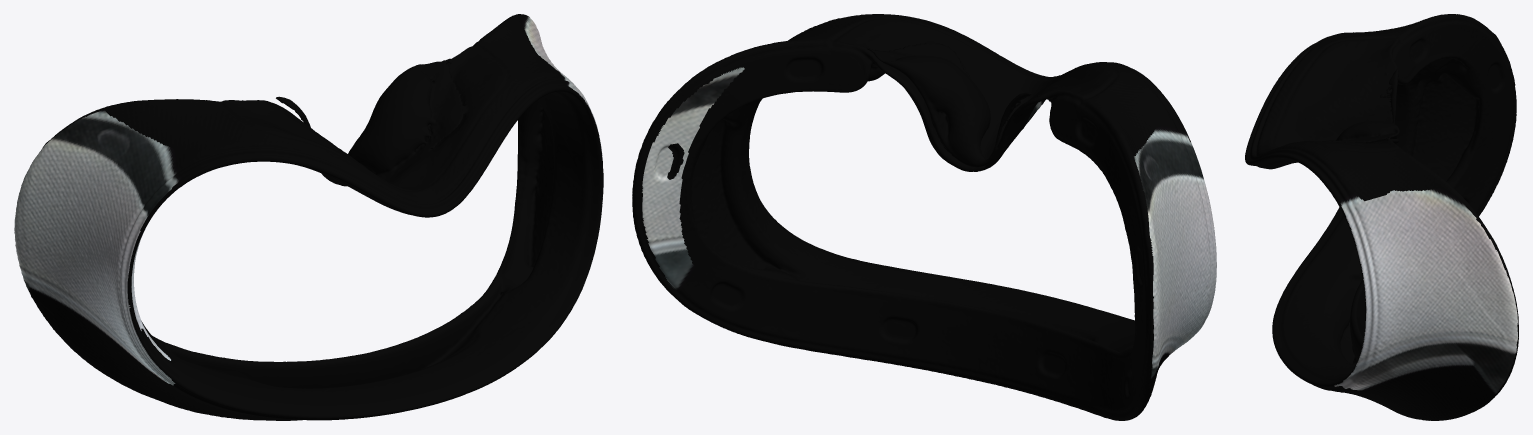
Rendered from vision-pro-light-seal-13w-reference.glb.
3 views of the same model, side by side, from view 1: azimuth 30°, elevation 25°; view 2: azimuth 150°, elevation 25°; view 3: azimuth 270°, elevation 25° (orthographic). The views are drawn at different scales.
Visible parts, largest first — view 1: Light seal 13W scan; view 2: Light seal 13W scan; view 3: Light seal 13W scan.
Boxes of the visible parts, x1,y1,x2,y2 form: Light seal 13W scan: (14,14,603,420); Light seal 13W scan: (632,14,1216,420); Light seal 13W scan: (1245,14,1518,420).
Size of the model in its own units: 161 by 96.33 by 85.04.
Materials: 1 (1 with a texture image).
